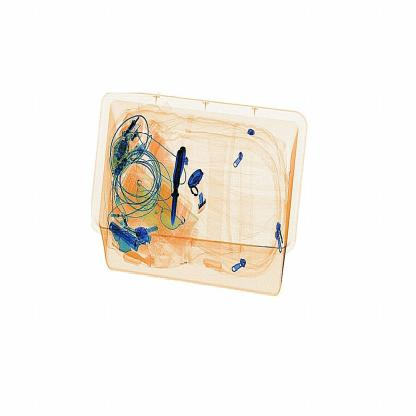gun: (161, 136, 191, 232)
